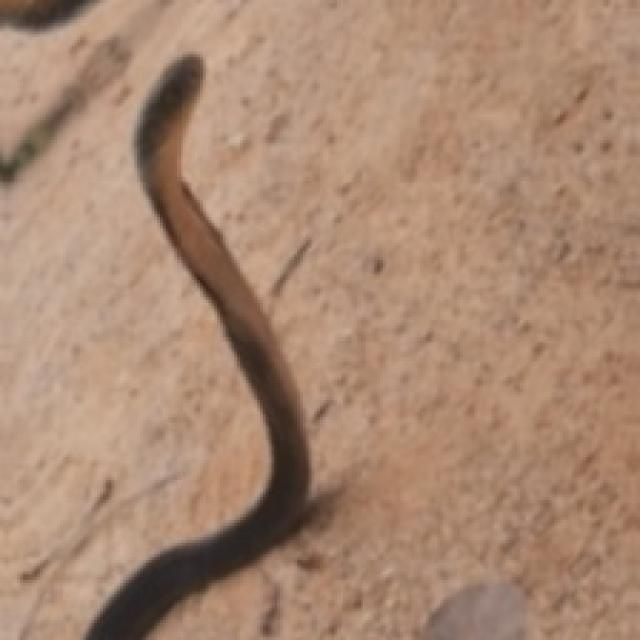king cobra: (86, 54, 306, 637)
